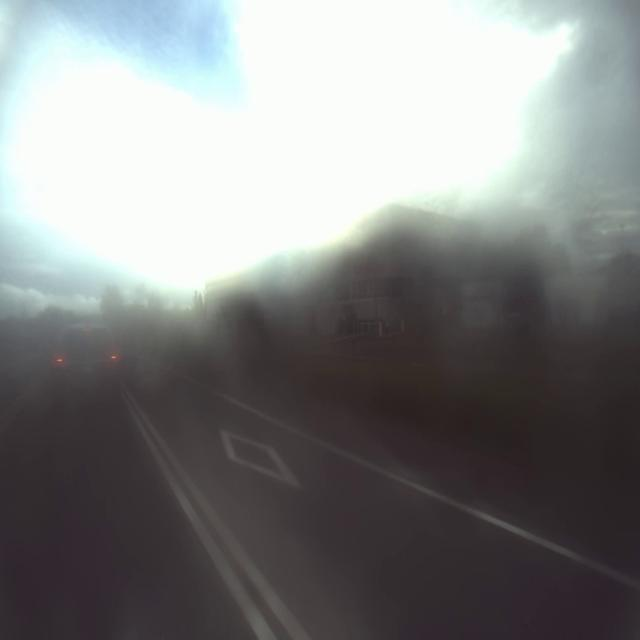car: (46, 311, 123, 411)
